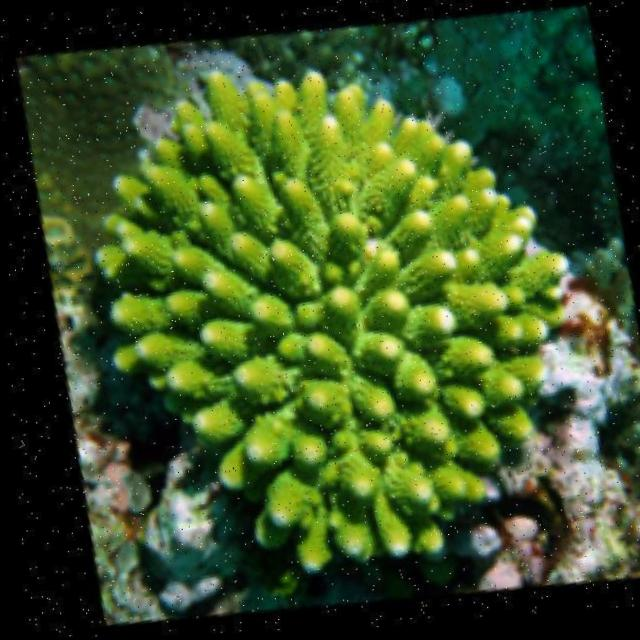Healthy Coral: (65, 50, 544, 584)
